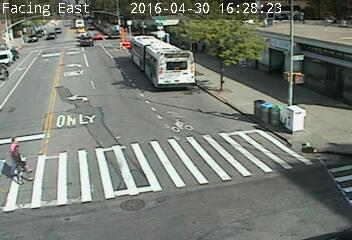neg: (110, 164, 143, 207), (253, 100, 278, 134), (161, 51, 184, 80), (61, 92, 77, 114)
pos: (4, 146, 32, 184)
